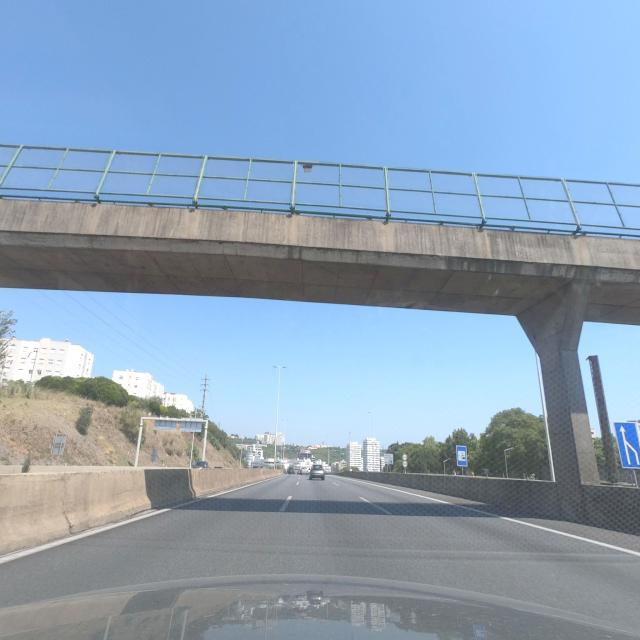car: (309, 464, 325, 480), (193, 460, 210, 468)
